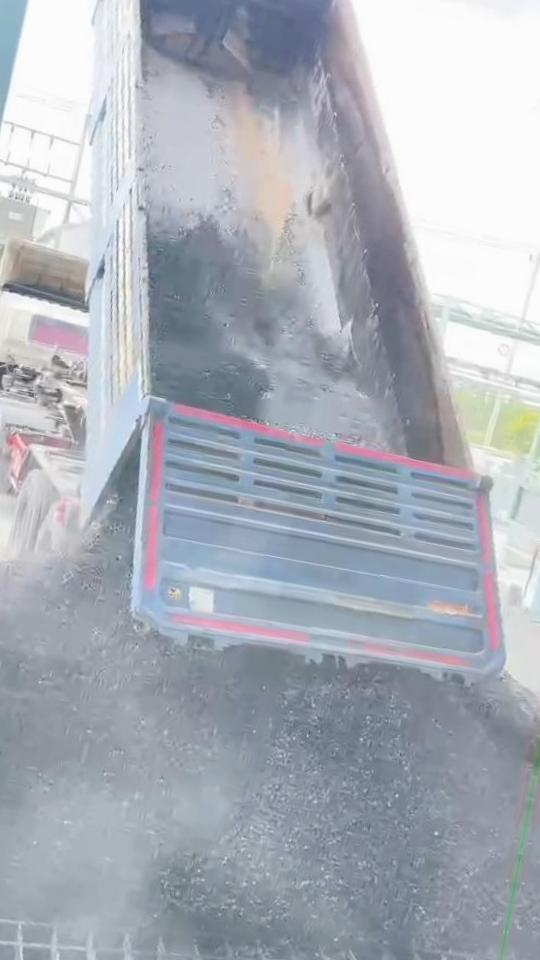gravel: (0, 527, 532, 958), (142, 48, 402, 451)
